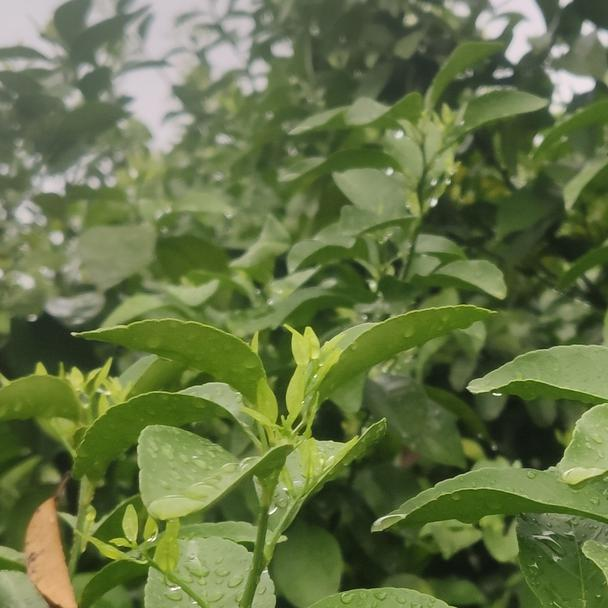shoot: (94, 510, 207, 596), (270, 442, 350, 521), (286, 326, 344, 427)
